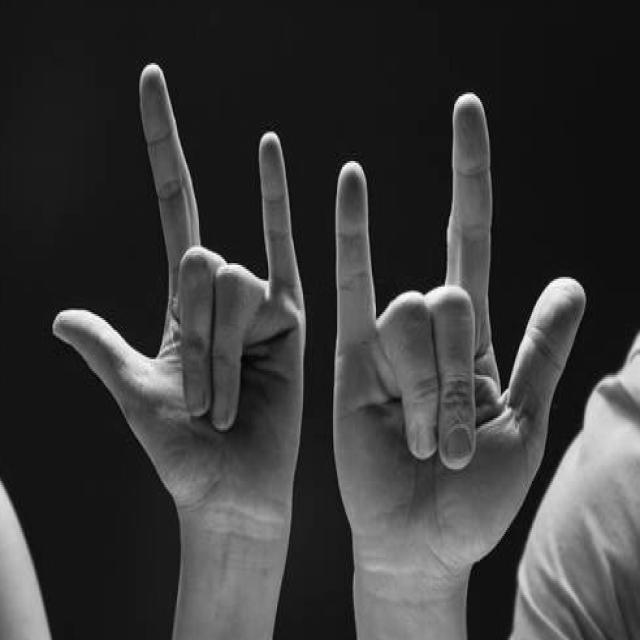i love you: (47, 55, 312, 575), (326, 84, 592, 600)
